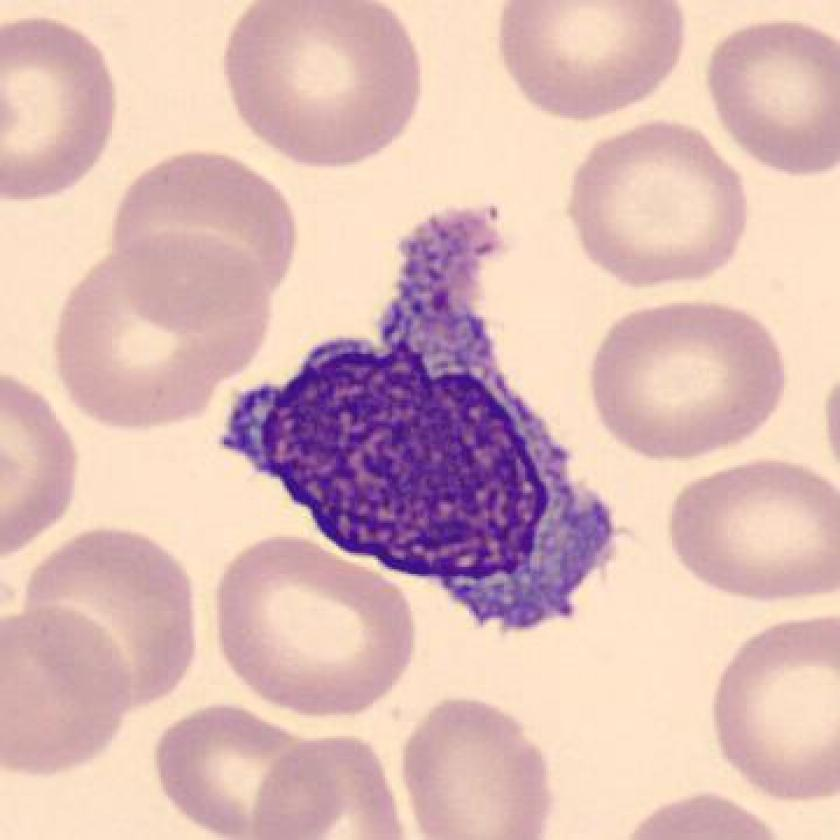monocyte: (202, 184, 647, 658)
